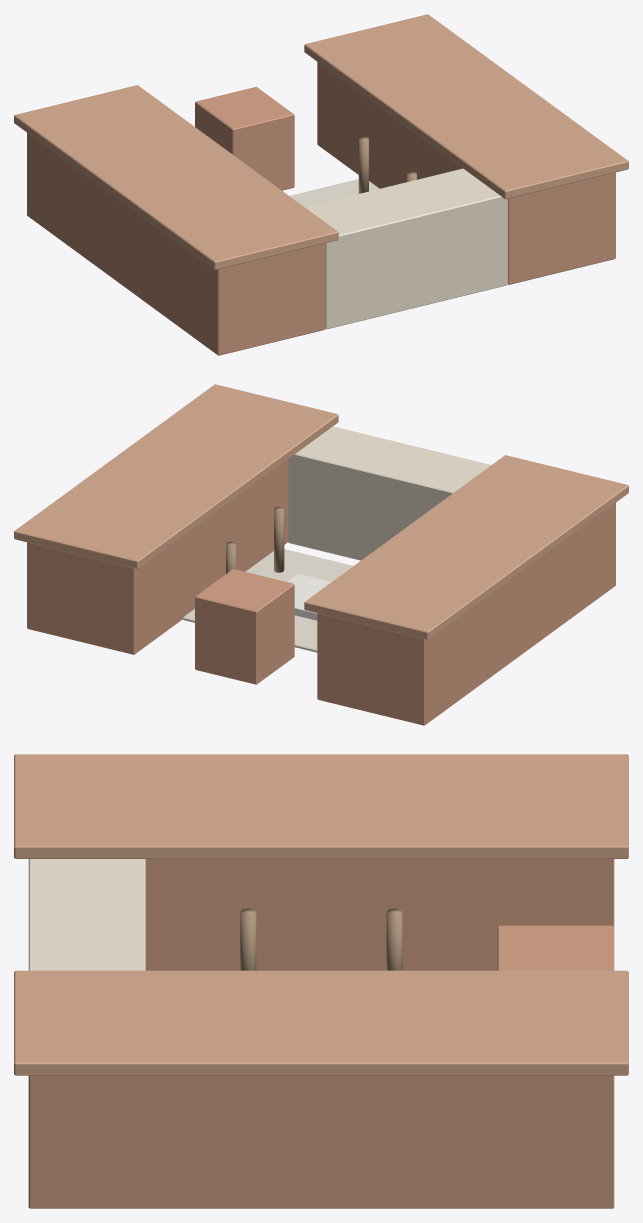
The model's file is domus.glb.
3 views of the same model, one above another, from view 1: azimuth 30°, elevation 25°; view 2: azimuth 150°, elevation 25°; view 3: azimuth 270°, elevation 25° (orthographic). The views are drawn at different scales.
Visible parts, largest first — view 1: wingroof_-1, wingroof_1, wing_-1, tablinum, wing_1, fauces, court, portico_3; view 2: wingroof_-1, wingroof_1, wing_-1, wing_1, tablinum, fauces, court, impluvium, portico_1; view 3: wing_1, wingroof_1, wingroof_-1, wing_-1, tablinum, fauces, portico_0, portico_2.
Boxes of the visible parts, x1=… form: wingroof_-1: x1=14, y1=85, x2=338, y2=269; wingroof_1: x1=304, y1=14, x2=628, y2=199; wing_-1: x1=27, y1=133, x2=325, y2=355; tablinum: x1=305, y1=168, x2=507, y2=329; wing_1: x1=317, y1=62, x2=615, y2=284; fauces: x1=195, y1=86, x2=294, y2=190; court: x1=289, y1=179, x2=379, y2=206; portico_3: x1=358, y1=136, x2=368, y2=193; wingroof_-1: x1=304, y1=455, x2=628, y2=639; wingroof_1: x1=14, y1=384, x2=338, y2=569; wing_-1: x1=317, y1=503, x2=615, y2=725; wing_1: x1=27, y1=459, x2=288, y2=654; tablinum: x1=288, y1=426, x2=491, y2=560; fauces: x1=195, y1=569, x2=294, y2=684; court: x1=182, y1=549, x2=353, y2=652; impluvium: x1=287, y1=574, x2=331, y2=620; portico_1: x1=274, y1=506, x2=284, y2=572; wing_1: x1=28, y1=1075, x2=614, y2=1208; wingroof_1: x1=14, y1=970, x2=628, y2=1075; wingroof_-1: x1=14, y1=754, x2=628, y2=858; wing_-1: x1=145, y1=859, x2=614, y2=970; tablinum: x1=28, y1=859, x2=145, y2=970; fauces: x1=497, y1=925, x2=614, y2=970; portico_0: x1=240, y1=908, x2=256, y2=970; portico_2: x1=386, y1=908, x2=402, y2=970.
Size of the model in its own units: 20 by 4.6 by 16.8.
